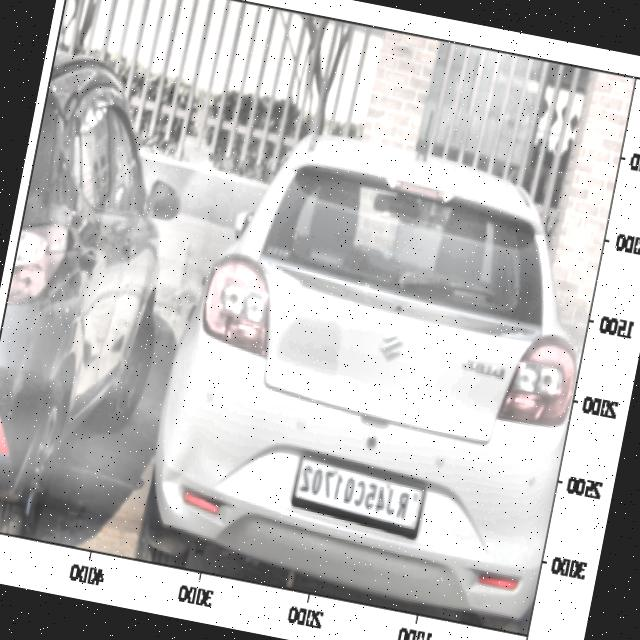license_plate: (292, 460, 418, 528)
